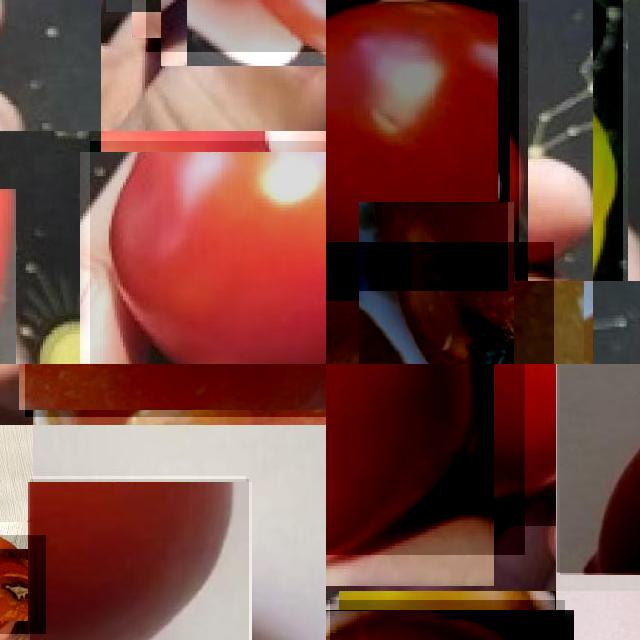Fresh Tomato: (326, 0, 508, 291), (90, 141, 326, 364), (326, 364, 525, 555), (30, 479, 249, 640), (557, 364, 640, 573), (146, 0, 326, 52)
Rotten Tomato: (326, 241, 553, 364), (0, 535, 46, 634)
